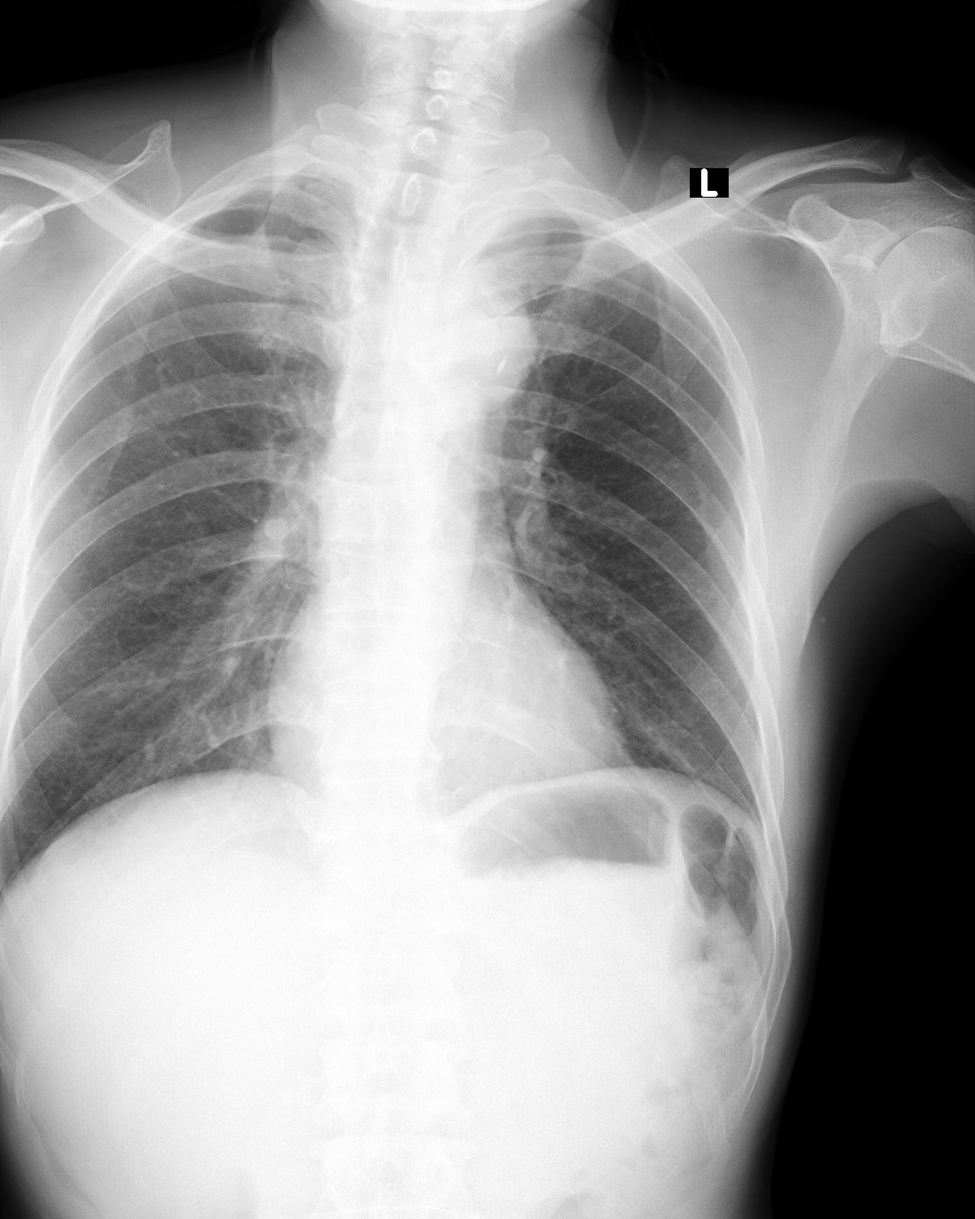Aortic enlargement: (399, 281, 531, 389)
